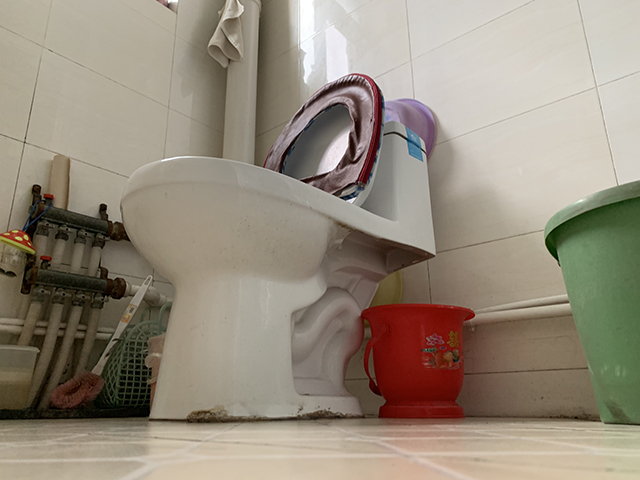closestool: (117, 71, 439, 423)
trashcan: (542, 178, 640, 427)
